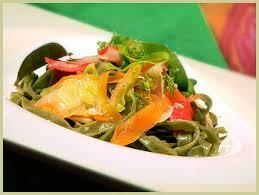Organic: (19, 25, 240, 166)
